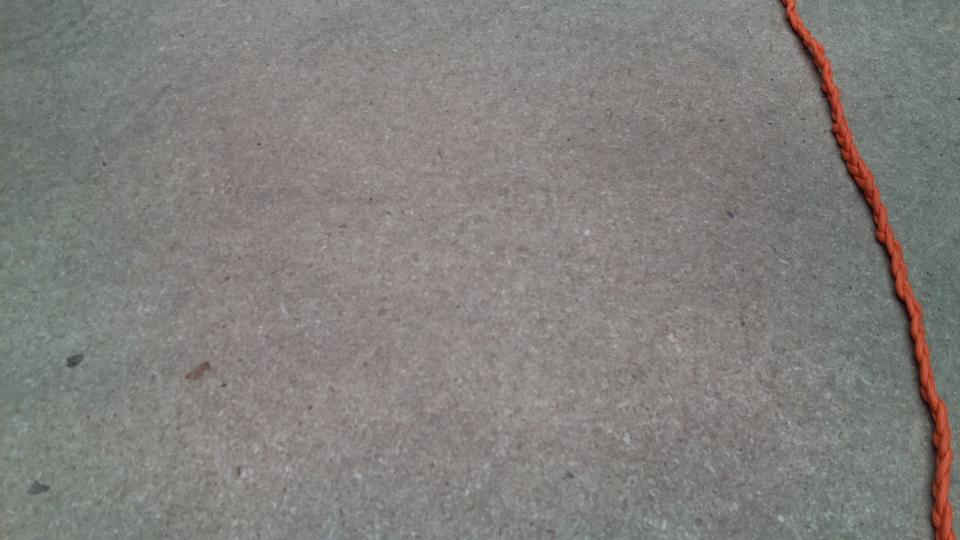rope: (776, 1, 958, 540)
